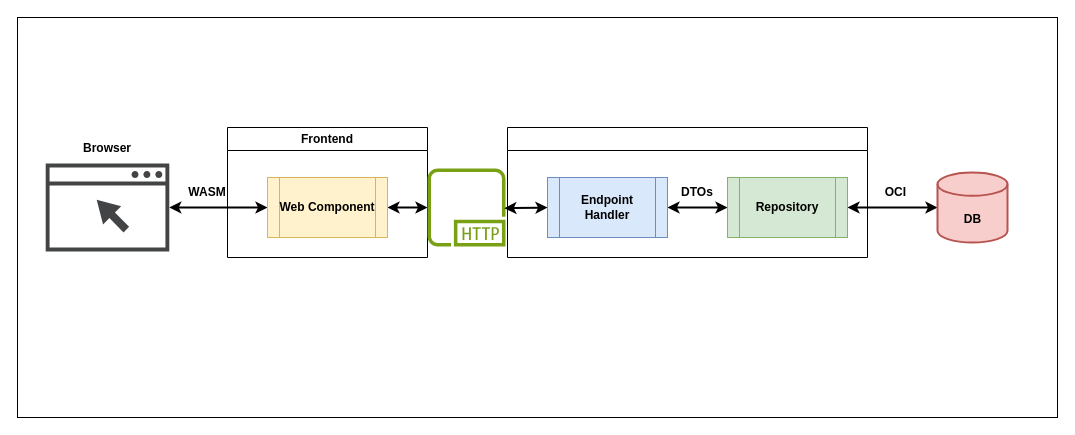
This 1075x435 diagram has some shape labels left out. Each missing label, with the box of its shape:
Backend: (506, 126, 868, 258)
REST: (427, 168, 505, 246)
